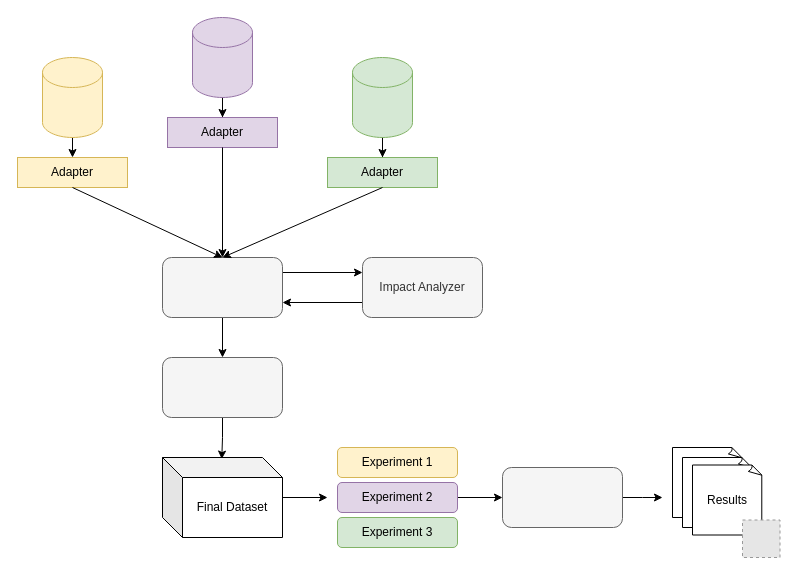
Some shapes in this 798 by 575 pixel diagram are drawn without their labels. Grey dashed boxes stand in for pictures. Here are the shapes that lost their labels. From the top down, the centre of each, then its label:
At point 222,287: "Sentiment Analyzer".
At point 222,387: "Price Analyzer".
At point 562,497: "Model Evaluation Pipeline".
